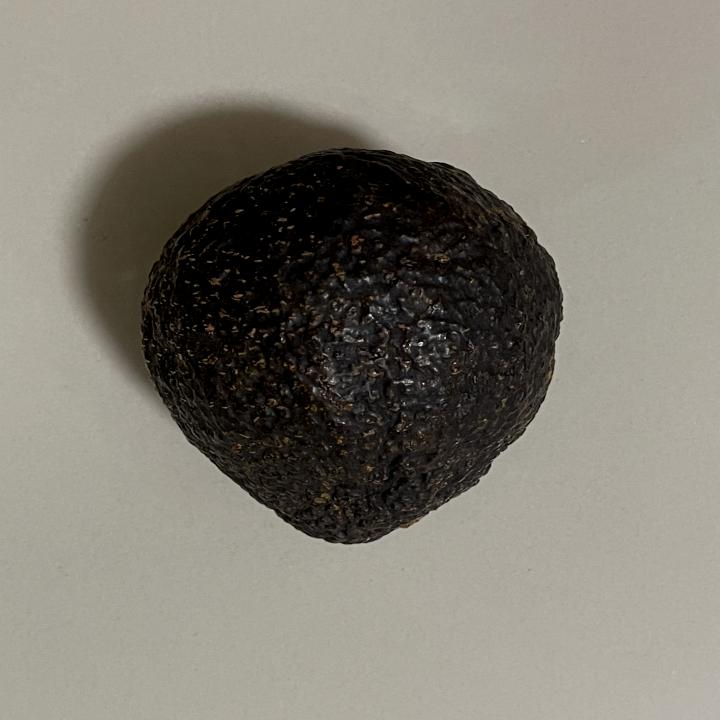Level3: (131, 142, 575, 556)
